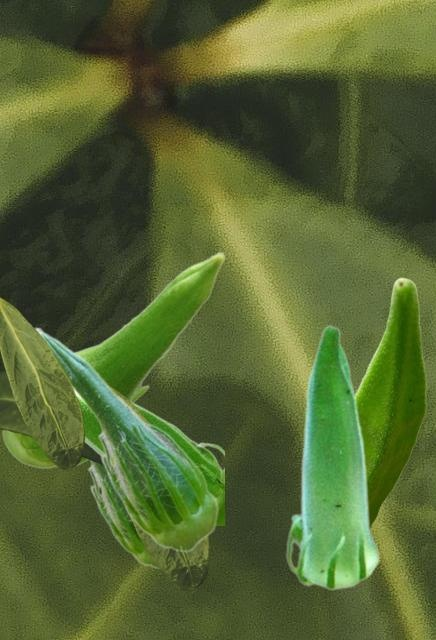okra: (1, 251, 225, 468), (34, 326, 218, 551), (285, 324, 380, 590), (78, 397, 223, 524), (356, 277, 425, 526), (86, 461, 158, 568)
